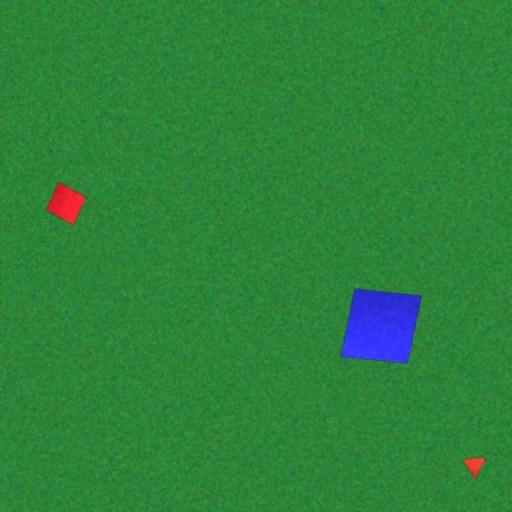BLUE_SQUARE: (340, 288, 422, 364)
RED_SQUARE: (46, 180, 86, 226)
